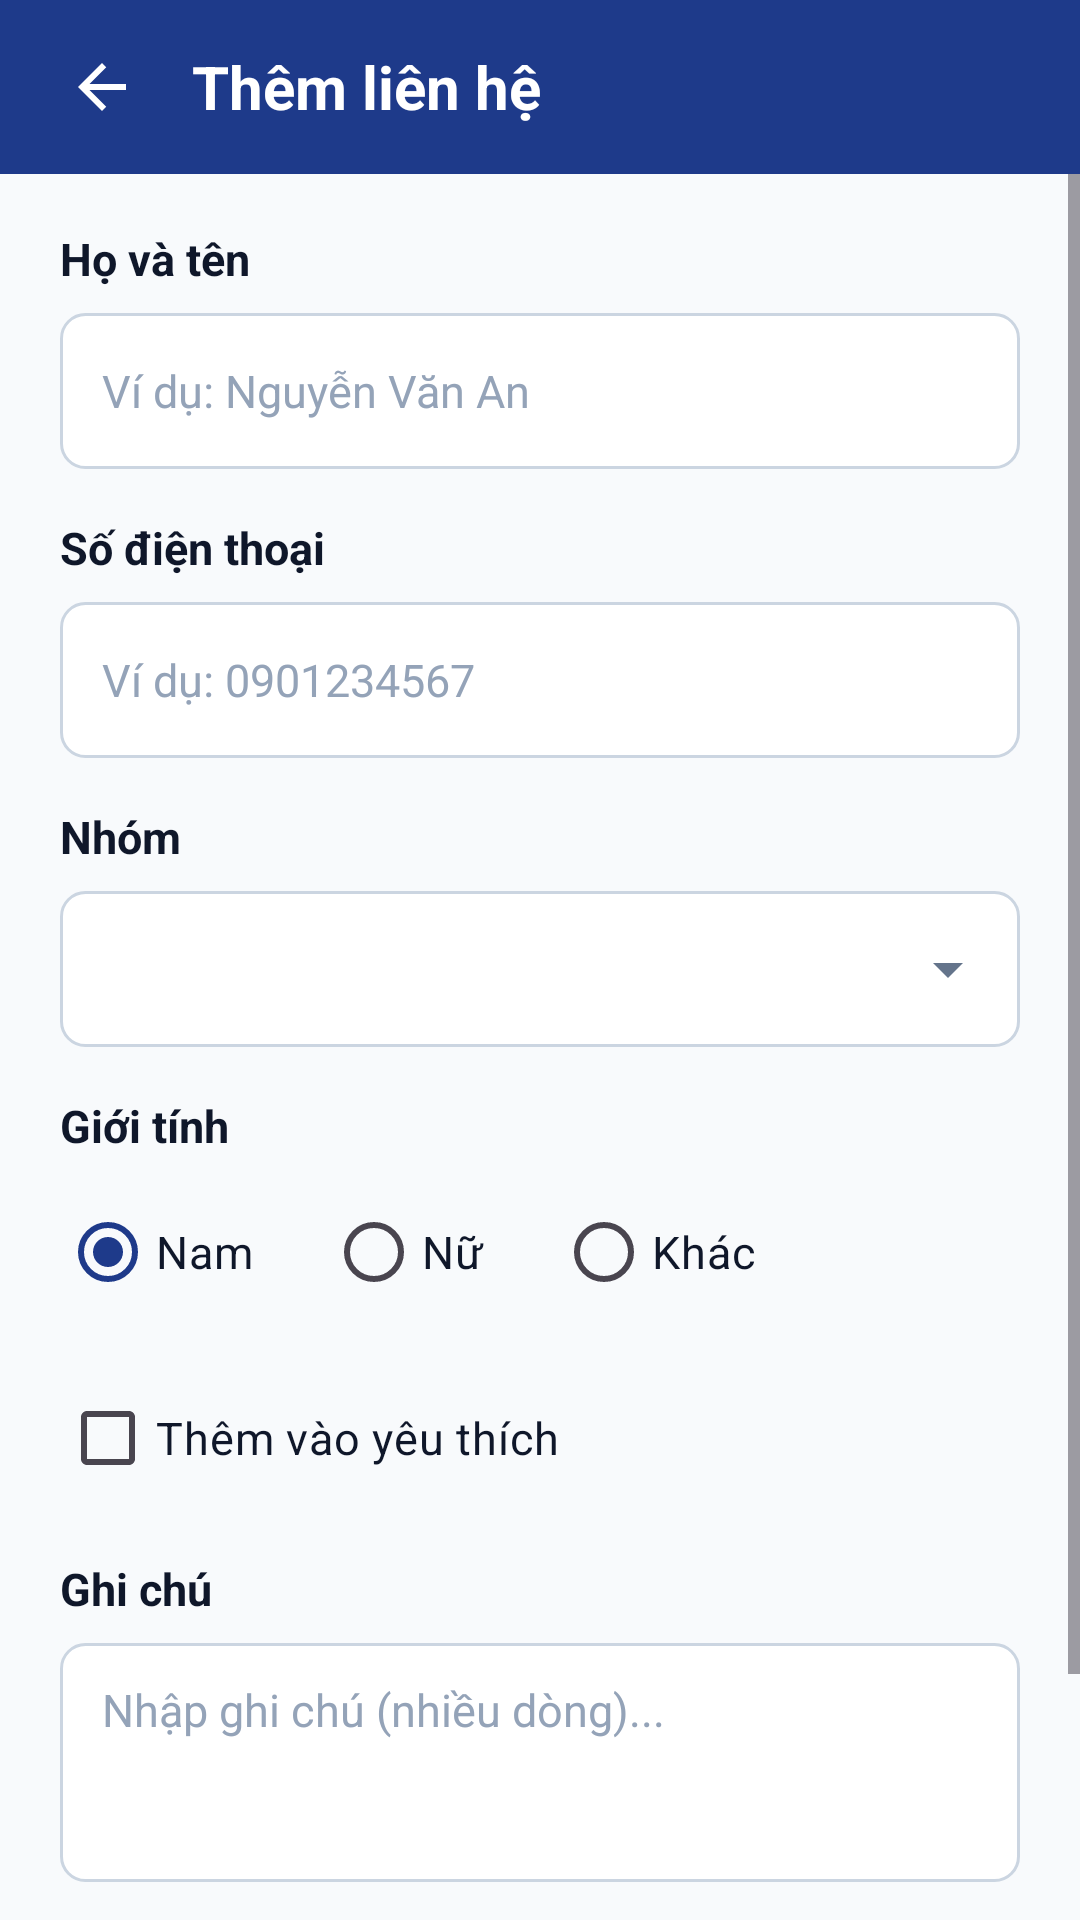

Named icons in this screenshot (1080 × 1920) and their bounding boxes, (x1, y1, x2, y2):
Quay lại: (78, 63, 126, 111)
